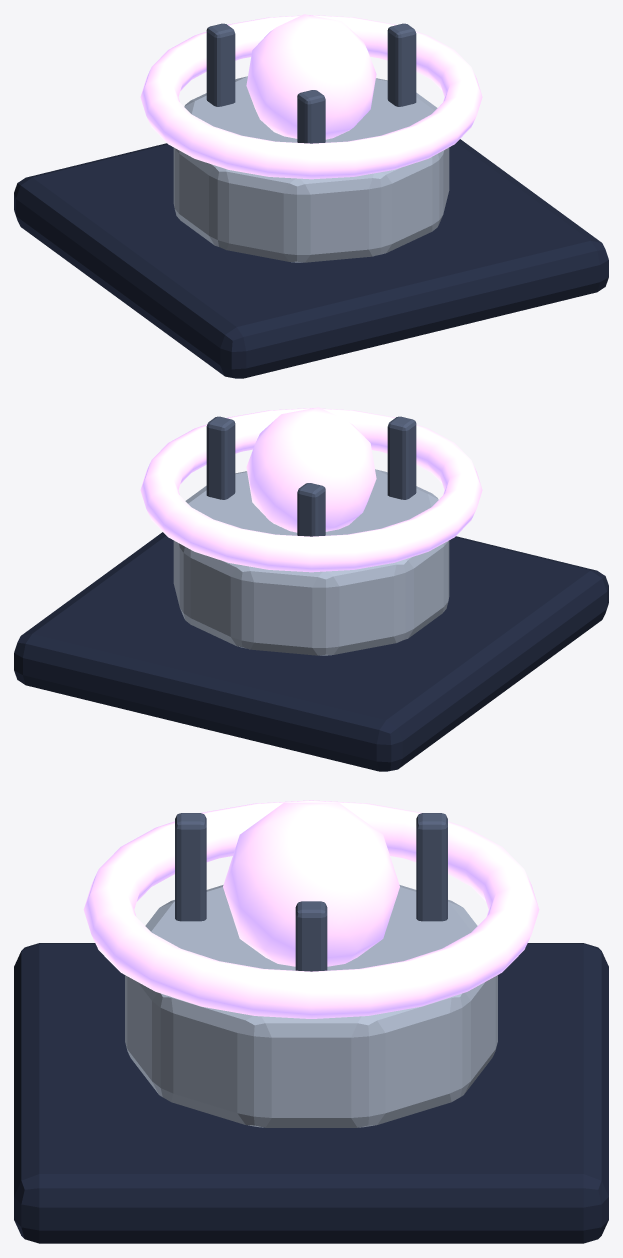
File: mod_shield_gen.glb
The picture shows the model from 3 angles, top to bottom: view 1: azimuth 30°, elevation 25°; view 2: azimuth 150°, elevation 25°; view 3: azimuth 270°, elevation 25°; orthographic projection. The views are drawn at different scales.
Visible parts, largest first — view 1: mod_shield_gen; view 2: mod_shield_gen; view 3: mod_shield_gen.
Boxes of the visible parts, x1,y1,x2,y2 form: mod_shield_gen: [14, 14, 608, 378]; mod_shield_gen: [14, 407, 608, 771]; mod_shield_gen: [14, 800, 608, 1243].
Size of the model in its own units: 0.94 by 0.56 by 0.94.
